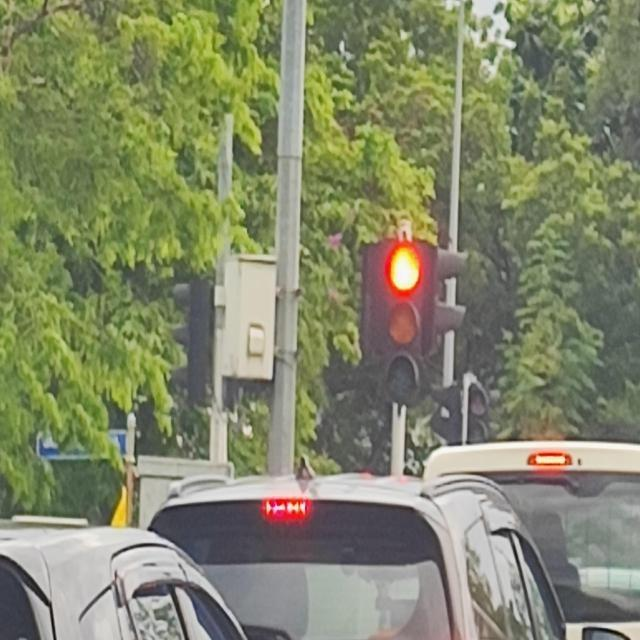Red: (381, 240, 432, 403)
